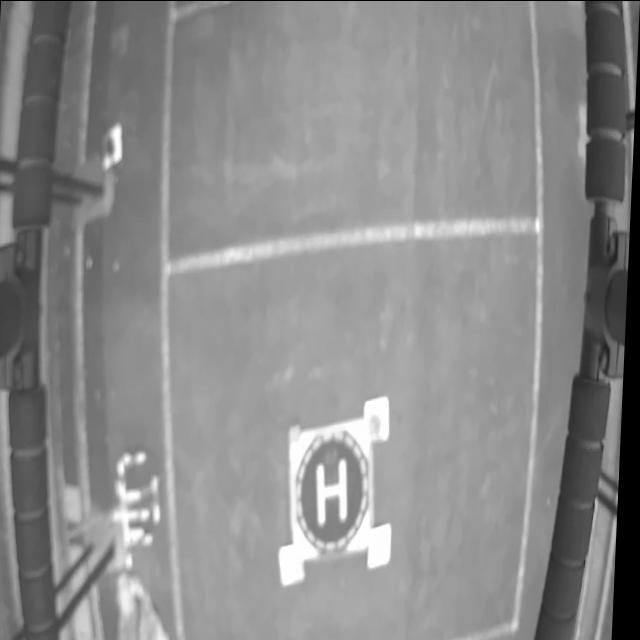Helipad: (319, 457, 352, 527)
